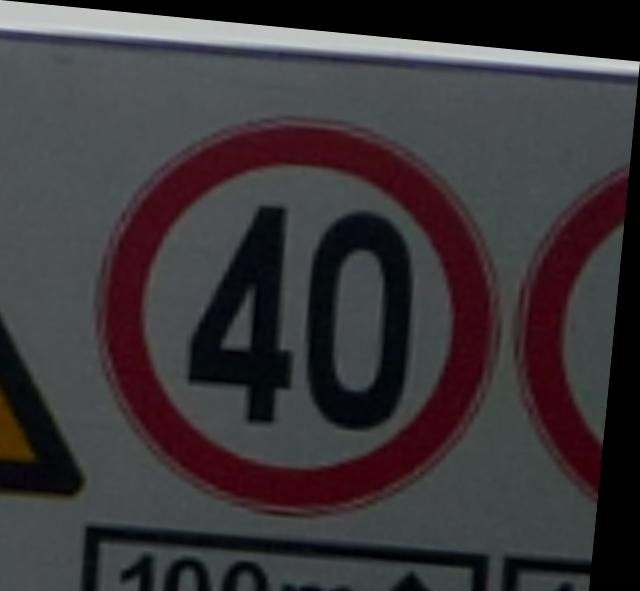limit40: (75, 88, 531, 531)
